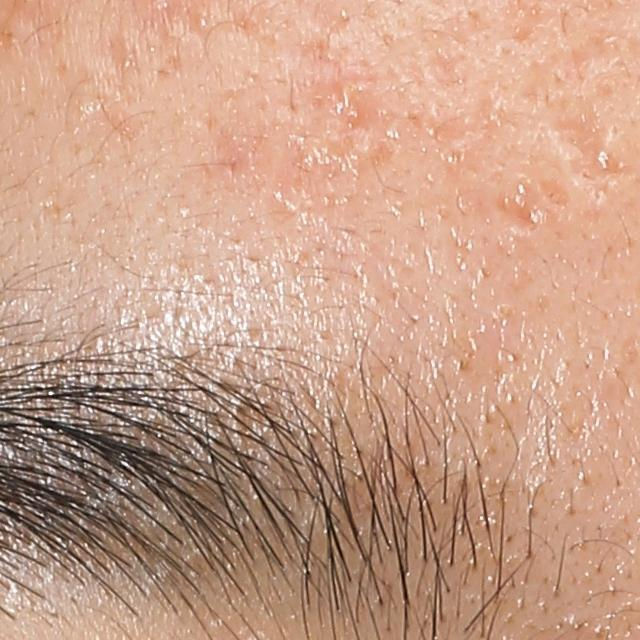atrophic_scar: (549, 95, 629, 204), (494, 180, 549, 238), (506, 67, 561, 124)
comedo: (187, 8, 213, 36)
